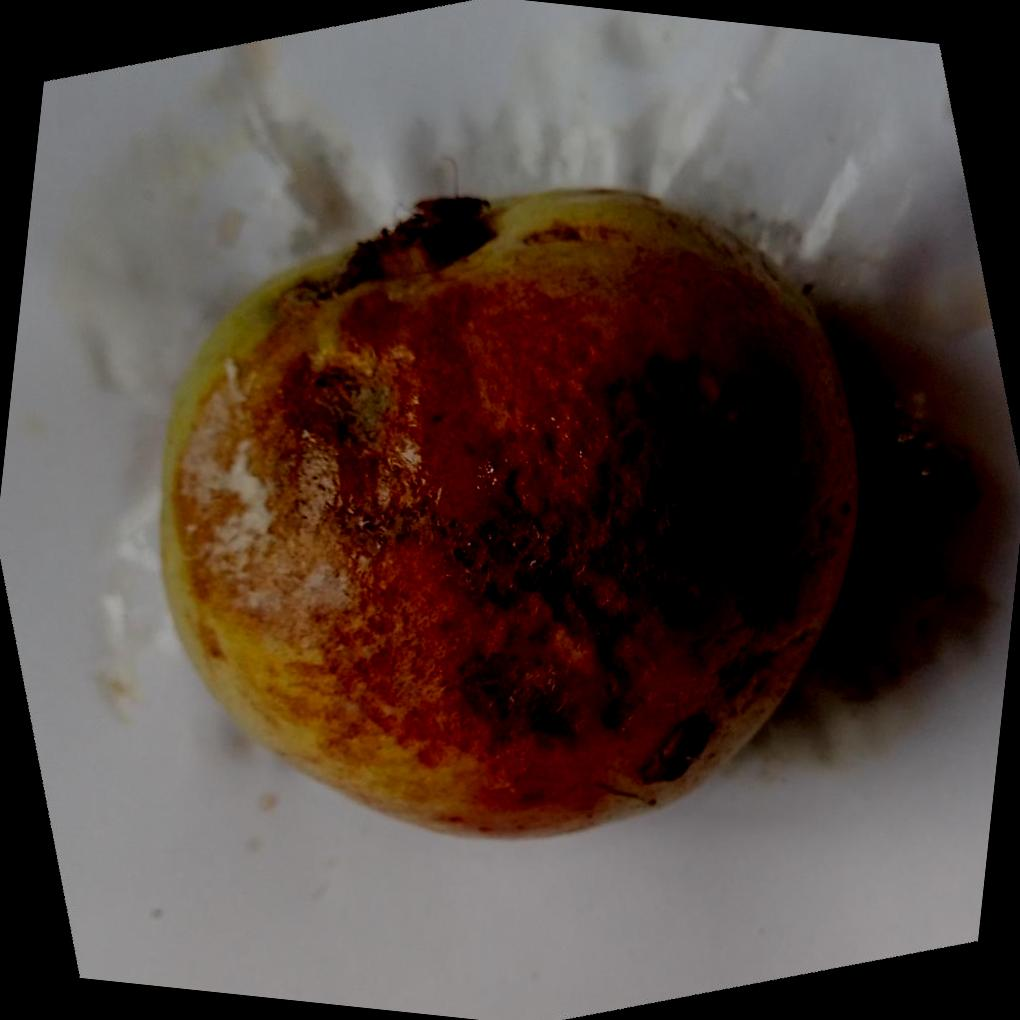FreshOrange: (157, 182, 863, 837)
